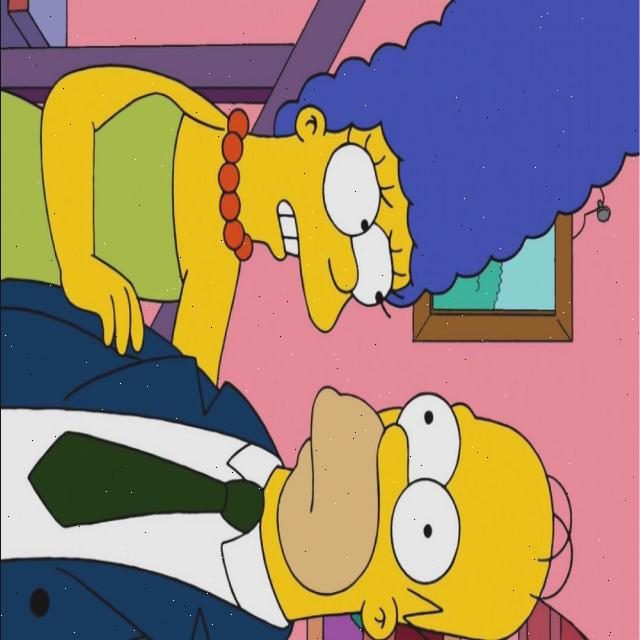Homer Simpson: (258, 380, 578, 640)
Marge Simpson: (212, 0, 638, 340)
